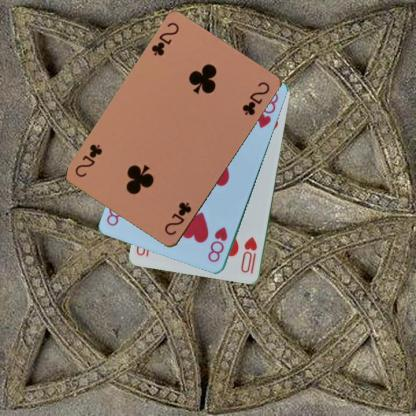10h: (238, 235, 259, 275)
2c: (148, 20, 180, 58), (162, 199, 193, 237)
8h: (205, 224, 229, 264)
